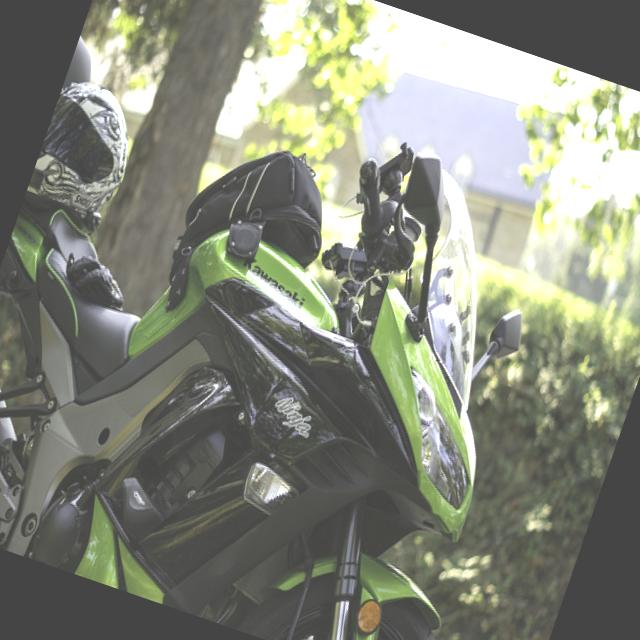Vehicle: (0, 26, 627, 640)
